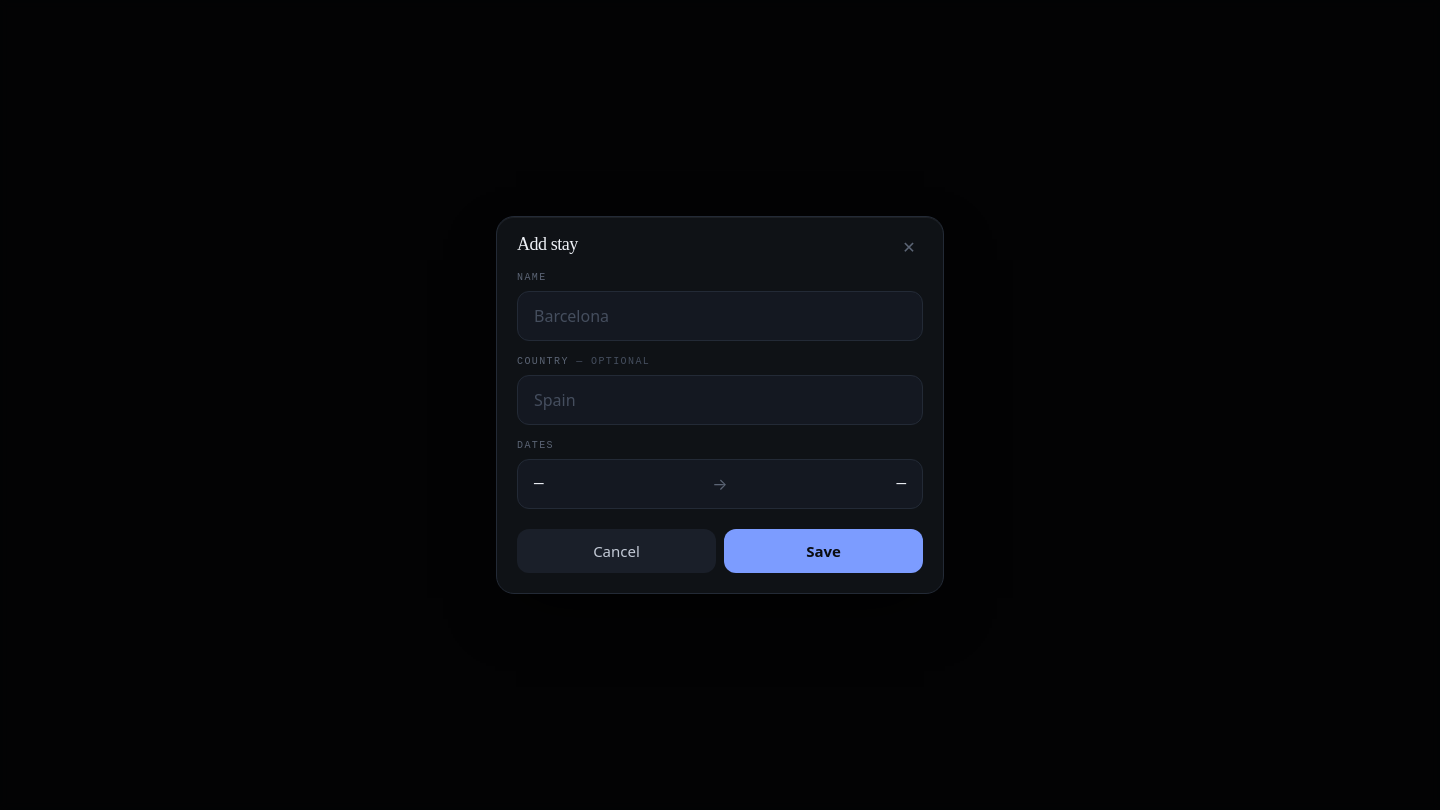
Test: StayForm in create mode › shows an inline error when the name is blank
The width and height of the screenshot is (1440, 810).
Click the button "Save": (824, 551) left=724, top=529, right=923, bottom=573
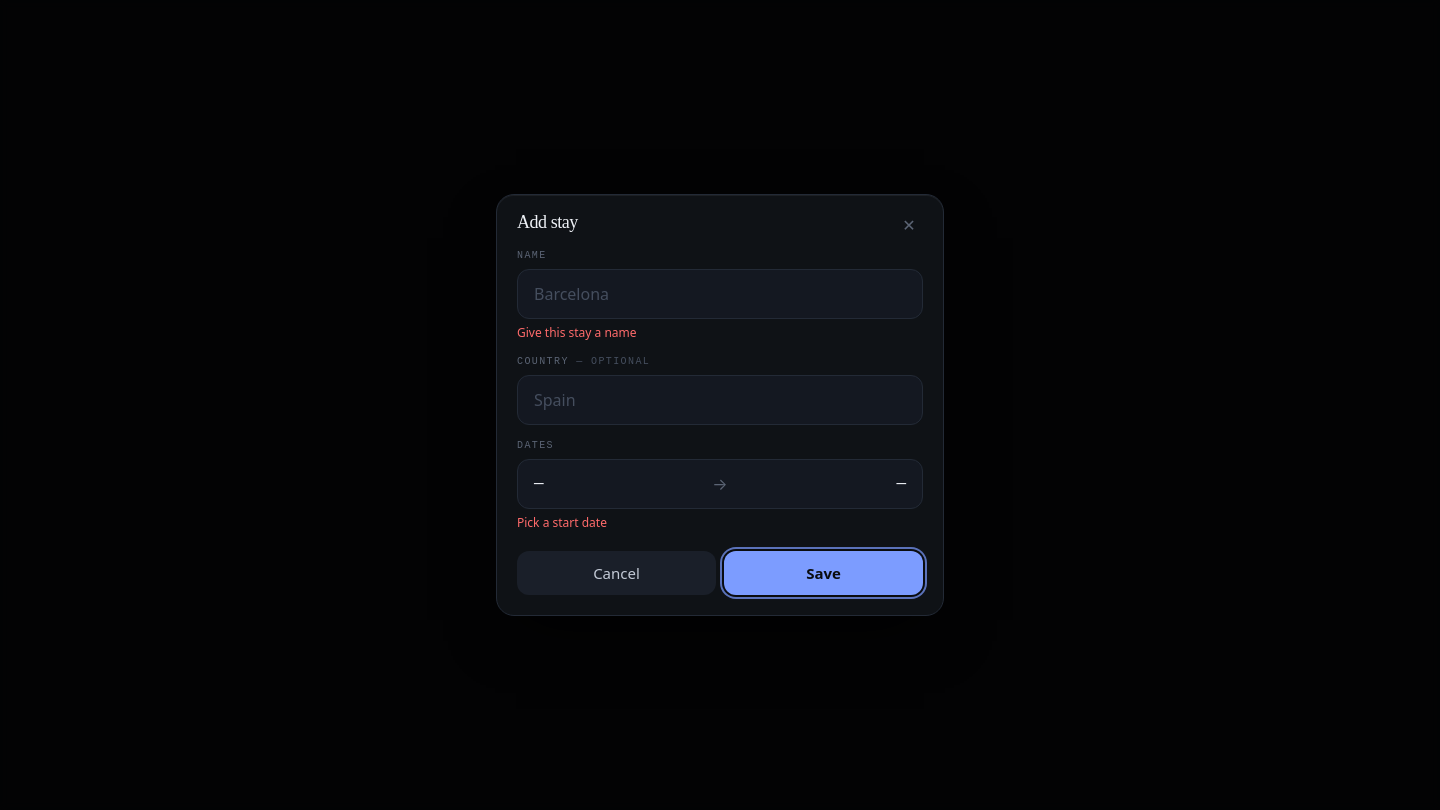
Now the text "Give this stay a name" is shown, box left=517, top=324, right=637, bottom=341
